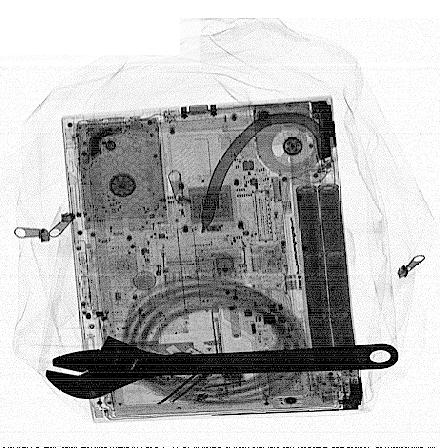Wrench: (44, 335, 401, 399)
